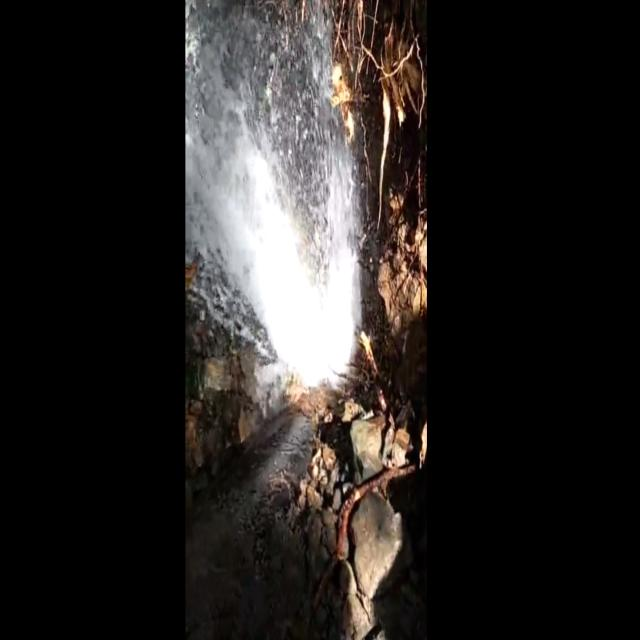leak: (186, 0, 360, 384)
